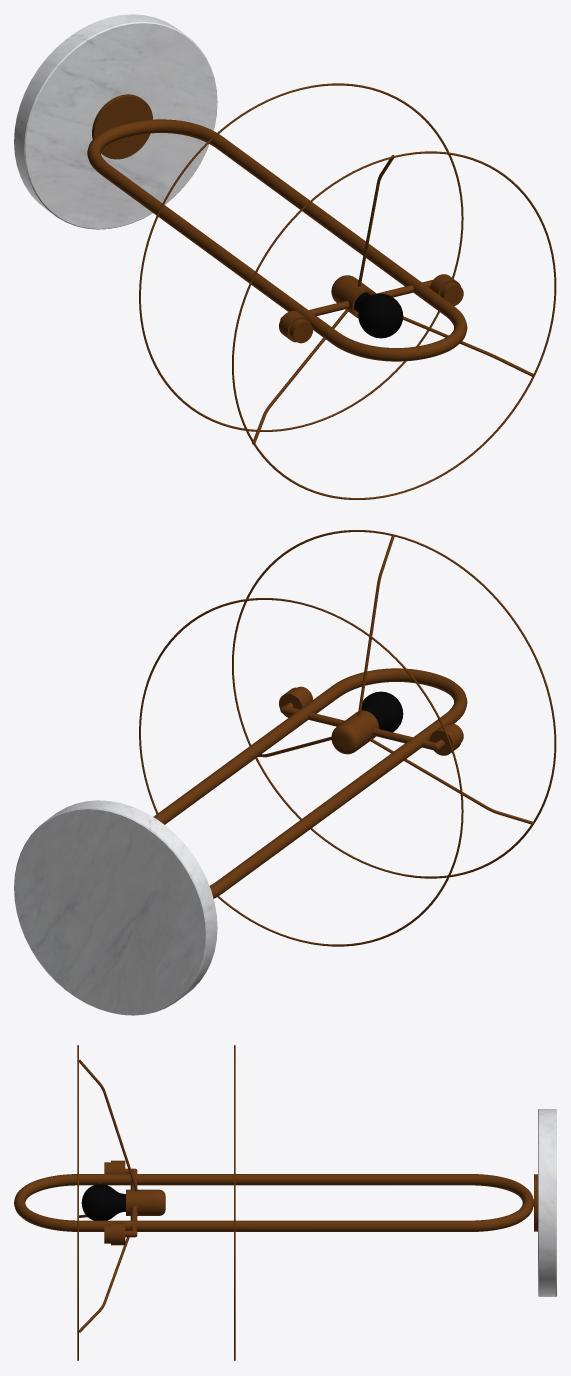
Rendered from CB2_Warner_Table_Lamp.obj.
3 views of the same model, one above another, from view 1: azimuth 30°, elevation 25°; view 2: azimuth 150°, elevation 25°; view 3: azimuth 270°, elevation 25° (orthographic). The views are drawn at different scales.
Parts seen in each view (by area): view 1: CB2_Warner_Table_Lamp; view 2: CB2_Warner_Table_Lamp; view 3: CB2_Warner_Table_Lamp.
Part boxes in pixels (bbox=[...]): CB2_Warner_Table_Lamp: bbox=[14, 14, 556, 499]; CB2_Warner_Table_Lamp: bbox=[14, 530, 556, 1015]; CB2_Warner_Table_Lamp: bbox=[14, 1045, 556, 1360].
Size of the model in its own units: 33 by 33 by 56.53.
